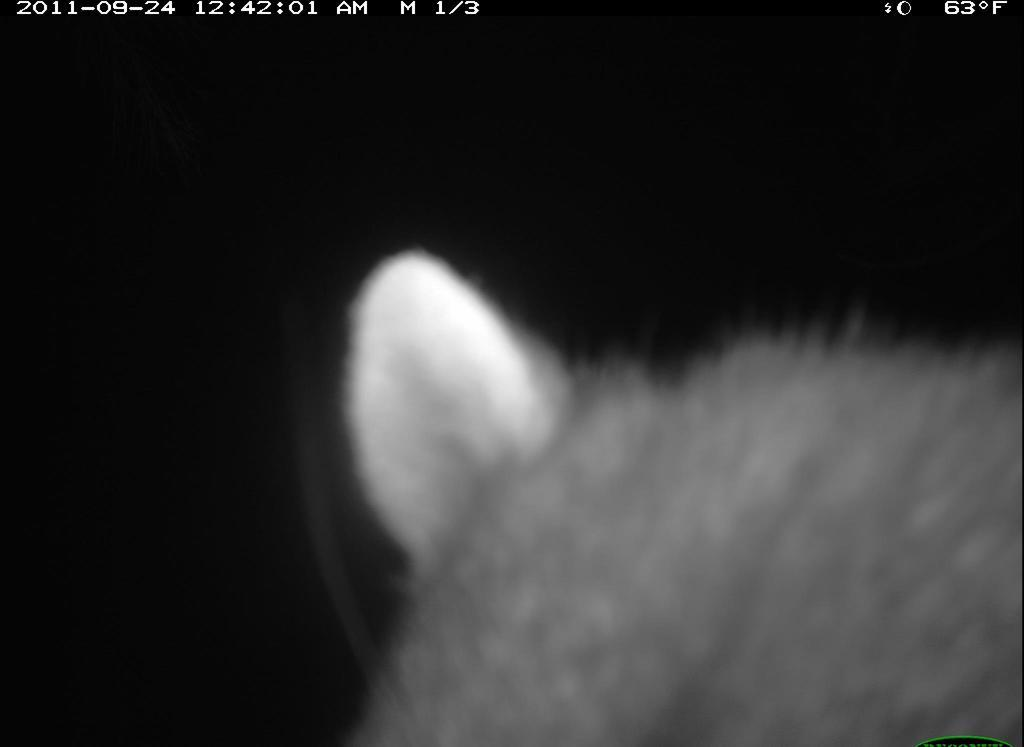raccoon: (272, 225, 1023, 747)
